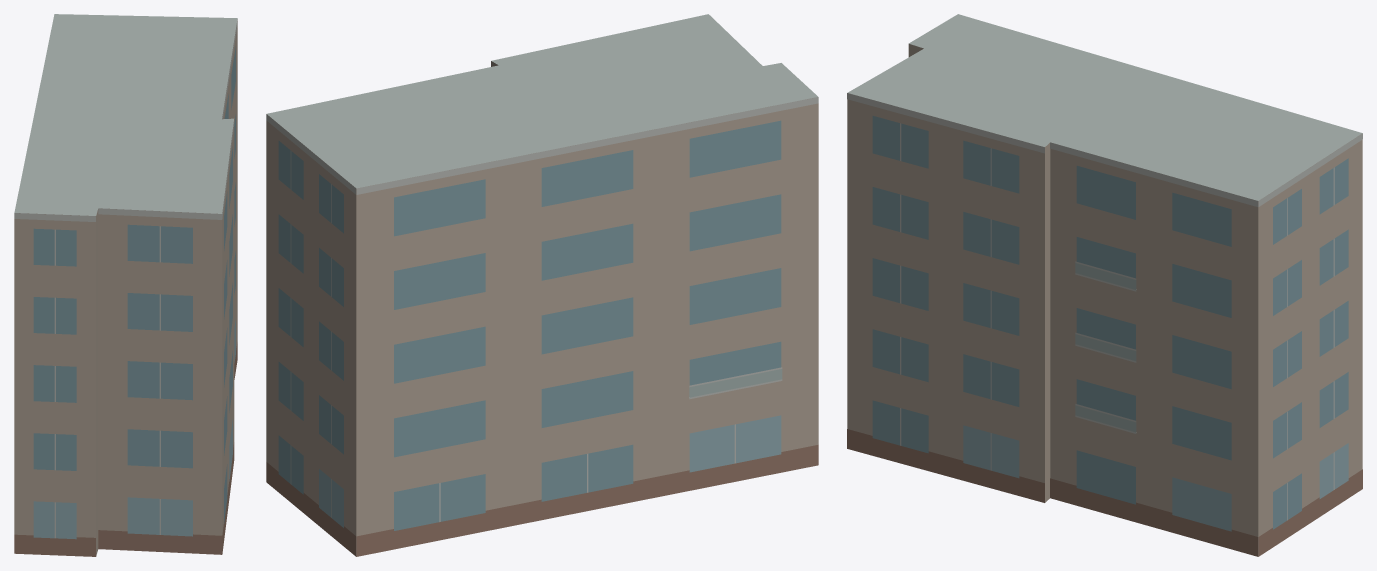
File: survey-upis-32852658.glb
3 views of the same model, side by side, from view 1: azimuth 30°, elevation 25°; view 2: azimuth 150°, elevation 25°; view 3: azimuth 270°, elevation 25° (orthographic). The views are drawn at different scales.
Visible parts, largest first — view 1: survey-upis-32852658.tmp; view 2: survey-upis-32852658.tmp; view 3: survey-upis-32852658.tmp.
Boxes of the visible parts, <box> form: survey-upis-32852658.tmp: <box>14,14,237,556</box>; survey-upis-32852658.tmp: <box>266,14,818,556</box>; survey-upis-32852658.tmp: <box>847,14,1362,556</box>.
Bounding box in the file's own units: 15.5 × 13.75 × 18.06.
